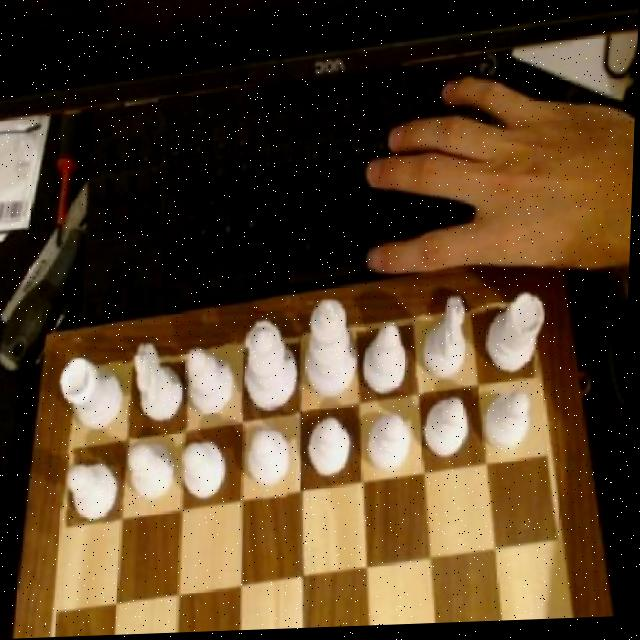black-rook: (183, 343, 242, 430), (362, 317, 413, 404)
white-bishop: (303, 303, 363, 405)
white-king: (419, 295, 474, 384), (131, 342, 189, 426)
white-knight: (481, 387, 539, 460), (64, 454, 122, 527), (241, 426, 294, 502), (126, 437, 178, 509), (366, 409, 417, 479), (307, 411, 355, 485), (180, 437, 230, 506), (425, 395, 471, 466)
white-pawn: (242, 320, 304, 422)
white-queen: (483, 292, 548, 386), (59, 354, 128, 435)
